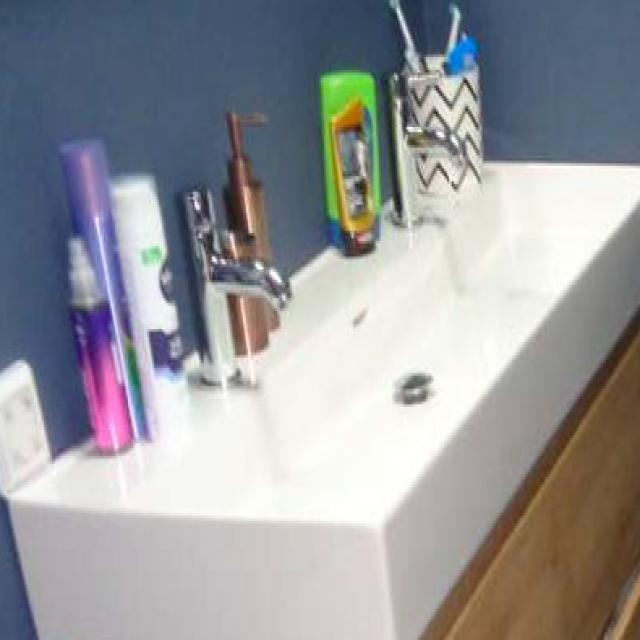wastafel: (9, 66, 640, 526), (415, 305, 640, 640)
